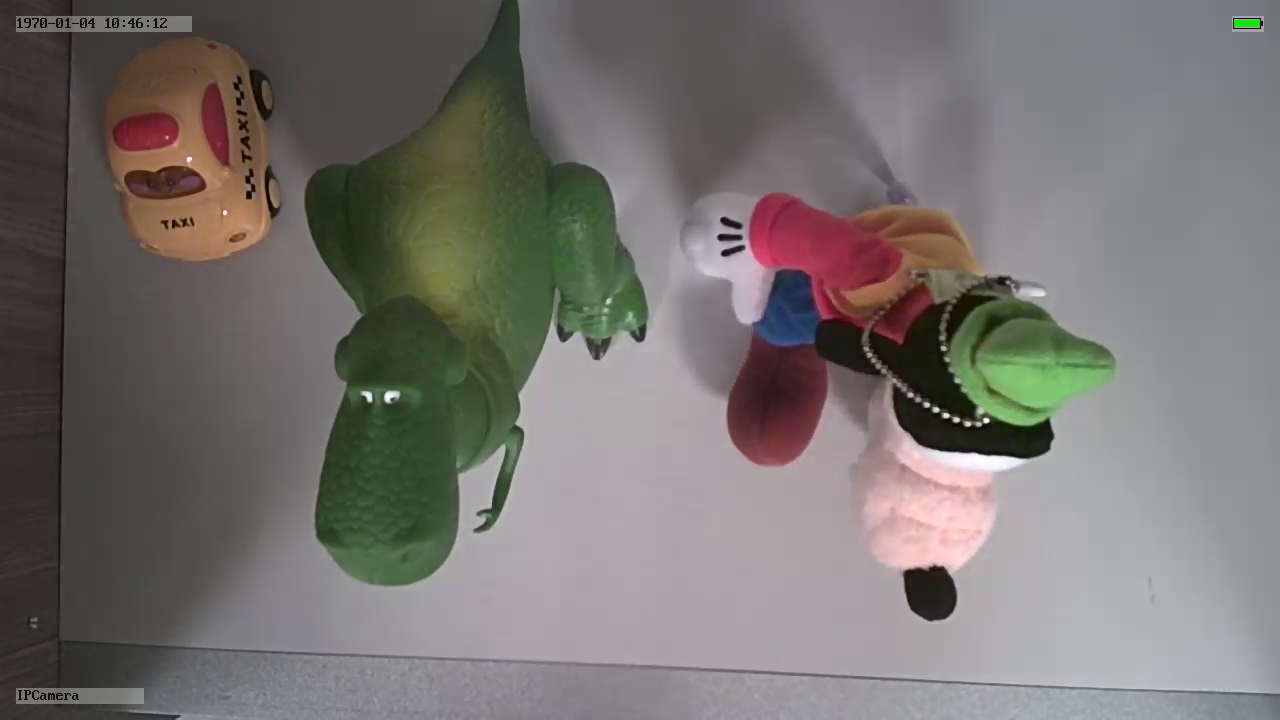goofy: (676, 182, 1119, 627)
